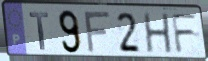2: (115, 11, 141, 55)
9: (57, 8, 83, 55)
F: (83, 10, 112, 55), (170, 13, 200, 55)
H: (142, 12, 174, 55)
T: (27, 11, 50, 52)
